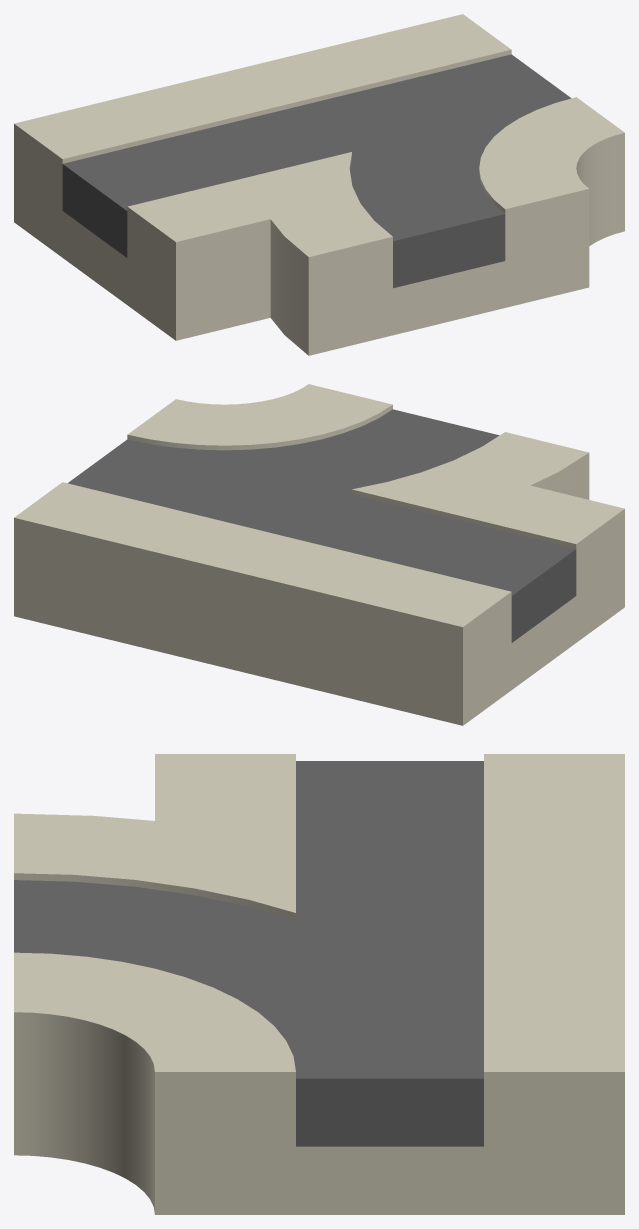
The model's file is roadTile_128.fbx.
3 views of the same model, one above another, from view 1: azimuth 30°, elevation 25°; view 2: azimuth 150°, elevation 25°; view 3: azimuth 270°, elevation 25° (orthographic). The views are drawn at different scales.
Parts seen in each view (by area): view 1: roadTile_128; view 2: roadTile_128; view 3: roadTile_128.
Boxes of the visible parts, x1=… form: roadTile_128: x1=14, y1=14, x2=624, y2=355; roadTile_128: x1=14, y1=384, x2=624, y2=725; roadTile_128: x1=14, y1=754, x2=624, y2=1214.
Size of the model in its own units: 118 by 24.8 by 95.96.
